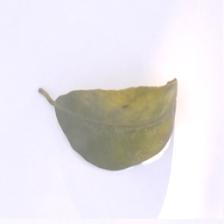black spot: (41, 82, 100, 165)
